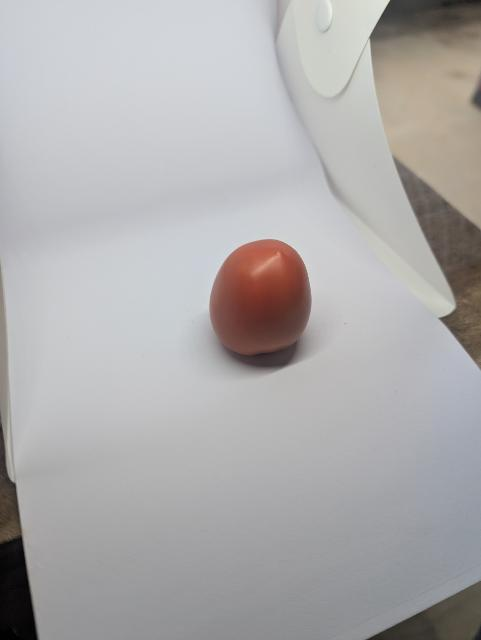red: (206, 230, 322, 376)
